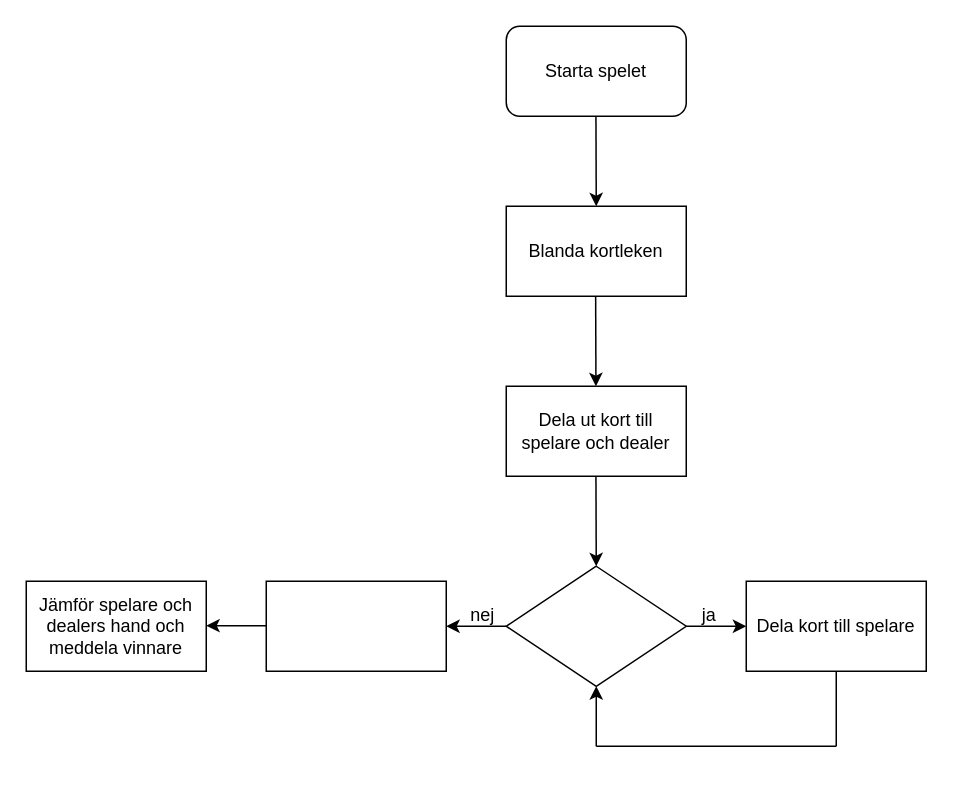
The diagram is 953 pixels wide and 785 high, and some of its shapes have lost their labels. The centre of each missing label's shape, as x and y in pixels:
"Dela kort till dealer sålänge hen är under 17" goes at [355,625].
"Spelare ta kort?" goes at [595,625].
